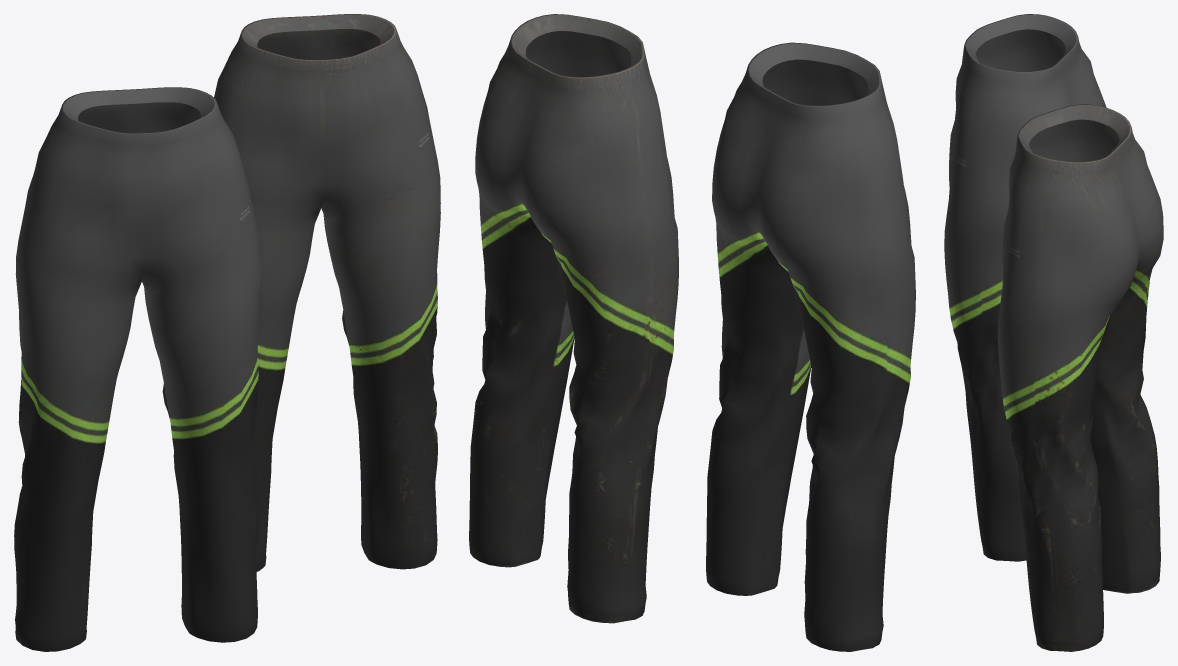
Rendered from f_sweatpants.glb.
3 views of the same model, side by side, from view 1: azimuth 30°, elevation 25°; view 2: azimuth 150°, elevation 25°; view 3: azimuth 270°, elevation 25° (orthographic). The views are drawn at different scales.
Parts seen in each view (by area): view 1: F_sweatpants_lowpoly_defaultPolygonShader_0, pasted__F_sweatpants_lowpoly_pasted__defaultPolygonShader1_0; view 2: F_sweatpants_lowpoly_defaultPolygonShader_0, pasted__F_sweatpants_lowpoly_pasted__defaultPolygonShader1_0; view 3: pasted__F_sweatpants_lowpoly_pasted__defaultPolygonShader1_0, F_sweatpants_lowpoly_defaultPolygonShader_0.
Boxes of the visible parts, x1=… form: F_sweatpants_lowpoly_defaultPolygonShader_0: x1=14, y1=87, x2=261, y2=651; pasted__F_sweatpants_lowpoly_pasted__defaultPolygonShader1_0: x1=214, y1=14, x2=440, y2=571; F_sweatpants_lowpoly_defaultPolygonShader_0: x1=706, y1=42, x2=915, y2=651; pasted__F_sweatpants_lowpoly_pasted__defaultPolygonShader1_0: x1=469, y1=14, x2=678, y2=623; pasted__F_sweatpants_lowpoly_pasted__defaultPolygonShader1_0: x1=997, y1=104, x2=1163, y2=651; F_sweatpants_lowpoly_defaultPolygonShader_0: x1=944, y1=14, x2=1106, y2=561.
Bounding box in the file's own units: 0.00722 × 0.0088 × 0.00368.
2 materials, 2 textured.
